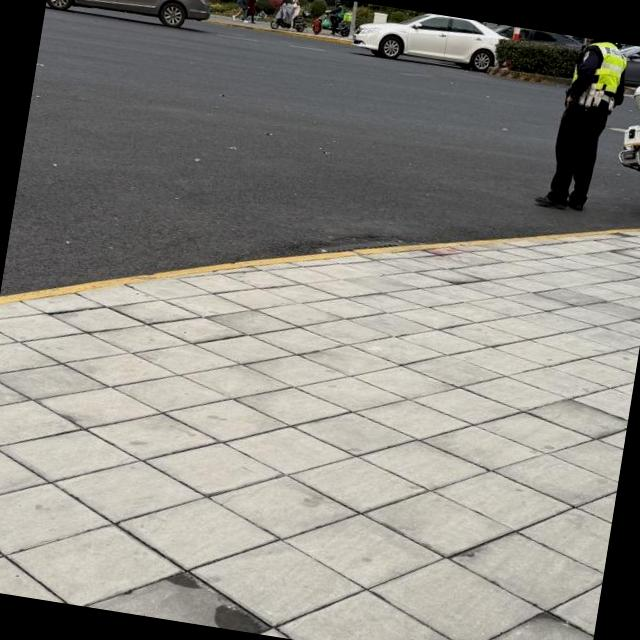curb: (0, 229, 640, 306), (209, 14, 351, 44), (489, 67, 566, 85)
